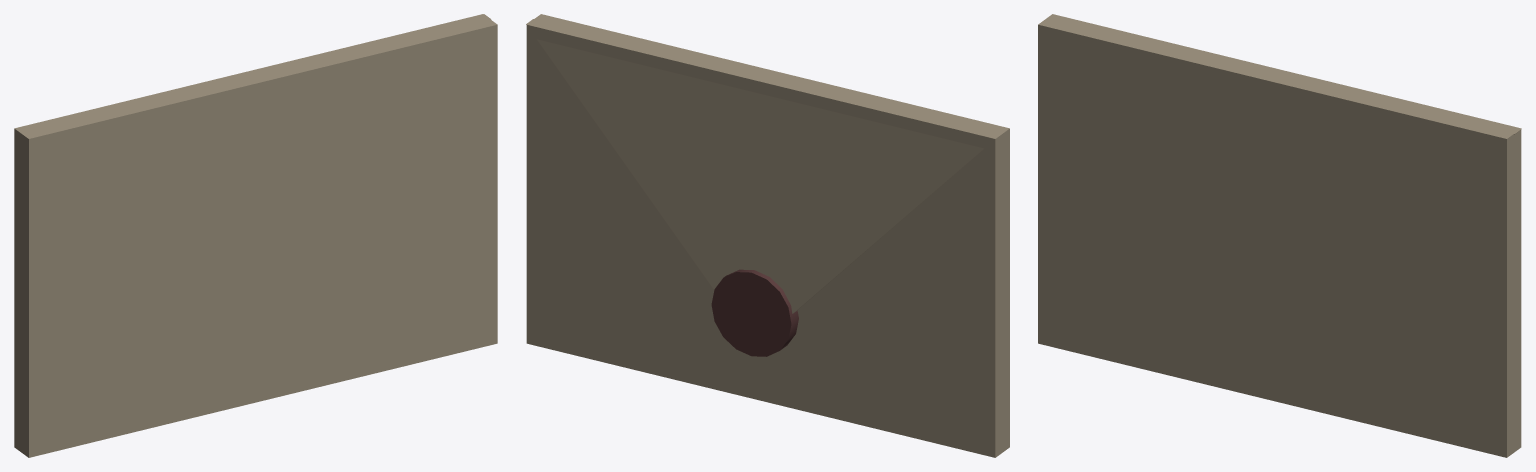
Rendered from envelope.fbx.
3 views of the same model, side by side, from view 1: azimuth 30°, elevation 25°; view 2: azimuth 150°, elevation 25°; view 3: azimuth 330°, elevation 25° (orthographic).
Visible parts, largest first — view 1: envelope; view 2: envelope; view 3: envelope.
Part boxes in pixels (x1,y1,x2,y2): envelope: [14, 14, 497, 457]; envelope: [526, 14, 1009, 457]; envelope: [1038, 14, 1521, 457].
Size of the model in its own units: 2.65 by 1.72 by 0.2165.
